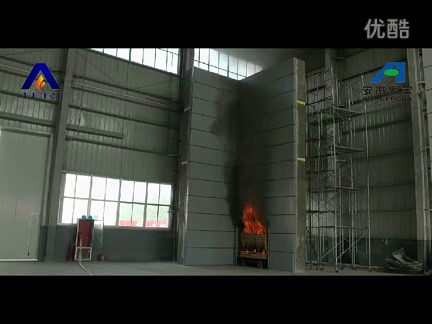fire: (240, 202, 267, 234)
